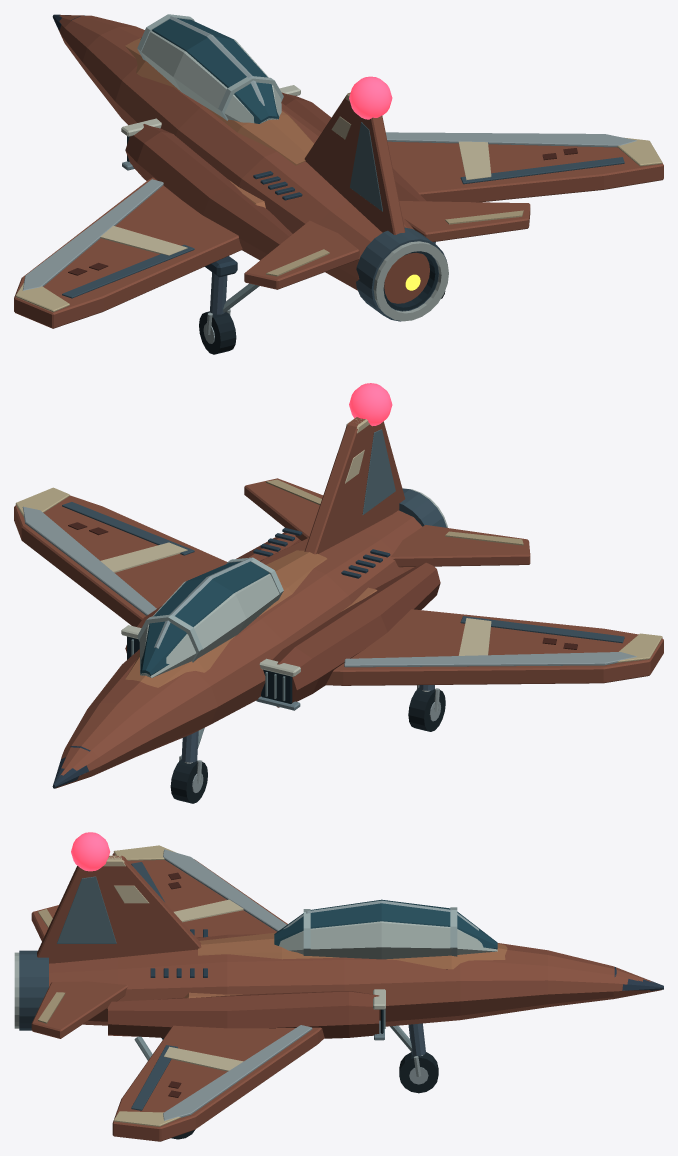
Rendered from parked-fighter.glb.
The picture shows the model from 3 angles, top to bottom: view 1: azimuth 30°, elevation 25°; view 2: azimuth 150°, elevation 25°; view 3: azimuth 270°, elevation 25°; orthographic projection. The views are drawn at different scales.
Parts seen in each view (by area): view 1: airframe, beacon_lens; view 2: airframe, beacon_lens; view 3: airframe, beacon_lens.
Boxes of the visible parts, x1=… form: airframe: x1=14, y1=14, x2=663, y2=354; beacon_lens: x1=349, y1=76, x2=392, y2=119; airframe: x1=14, y1=417, x2=663, y2=803; beacon_lens: x1=349, y1=383, x2=392, y2=426; airframe: x1=14, y1=845, x2=663, y2=1141; beacon_lens: x1=71, y1=832, x2=110, y2=871.
Size of the model in its own units: 6.07 by 2.58 by 5.94.
